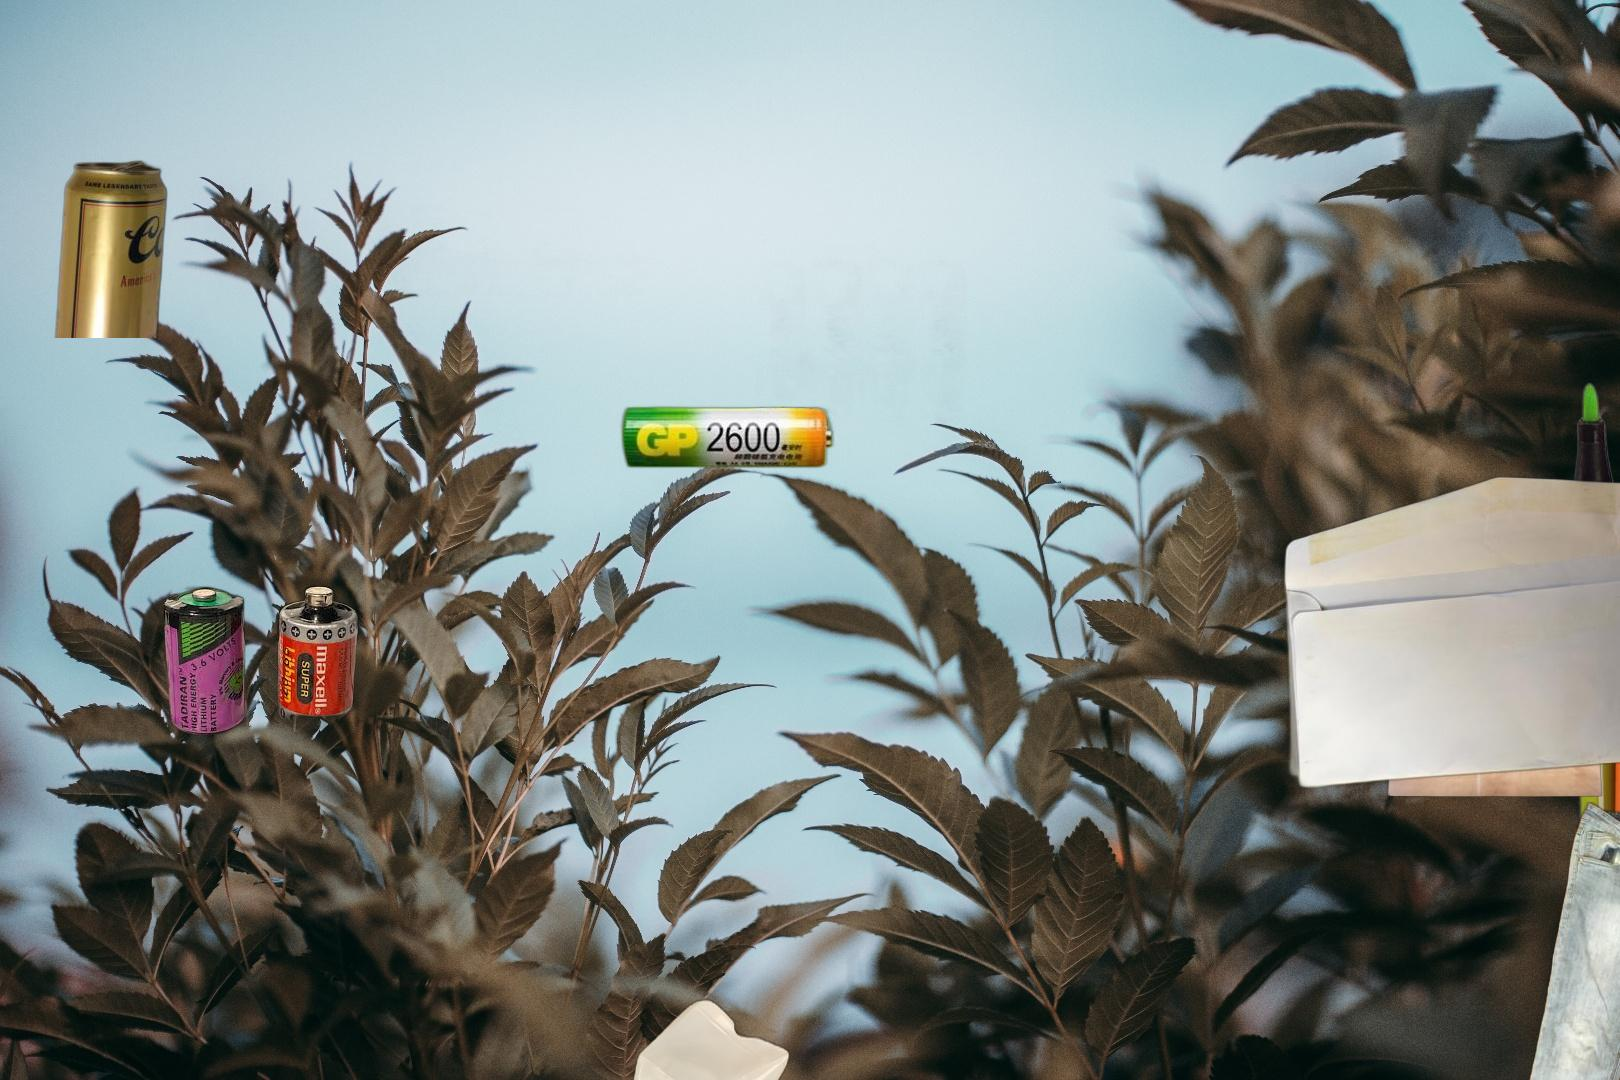battery: (259, 201, 968, 494), (160, 583, 391, 749)
clothes: (1489, 802, 1620, 1080)
metal-cans: (51, 158, 172, 337)
paper: (1276, 474, 1620, 793)
penholder: (1561, 369, 1620, 906)
plastic-bottles: (621, 994, 794, 1080)
trashbox-cardboard: (1343, 595, 1619, 817)
